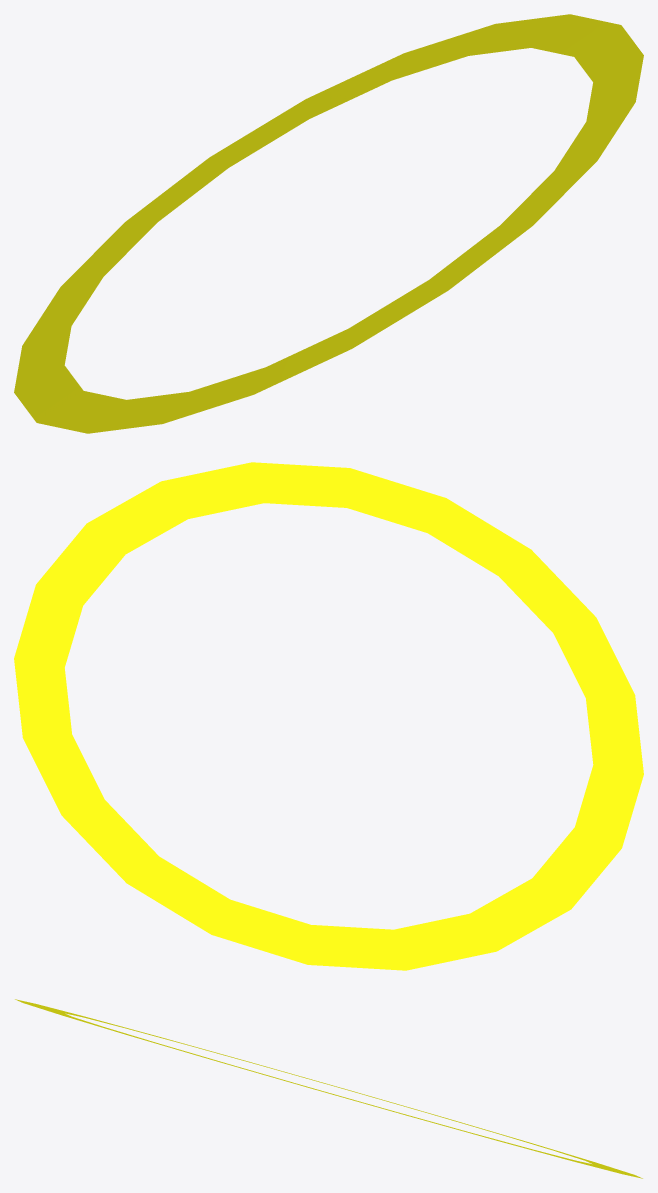
File: RadialPulse.fbx
3 renders of one model, top to bottom at view 1: azimuth 30°, elevation 25°; view 2: azimuth 150°, elevation 25°; view 3: azimuth 270°, elevation 25°, orthographic. The views are drawn at different scales.
Parts seen in each view (by area): view 1: CircleGeo; view 2: CircleGeo; view 3: CircleGeo.
Boxes of the visible parts, <box> form: CircleGeo: <box>14,14,643,433</box>; CircleGeo: <box>14,462,643,970</box>; CircleGeo: <box>15,999,642,1178</box>.
Bounding box in the file's own units: 13.4 × 6.98 × 14.1.
